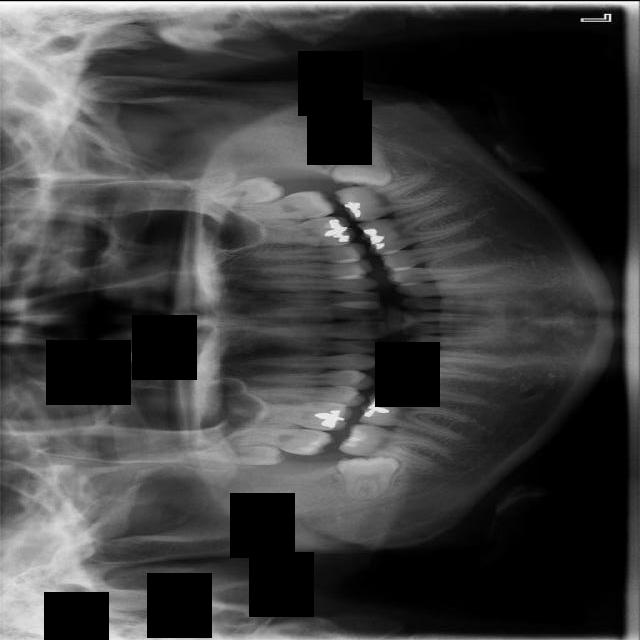3M ESPE Implant: (179, 444, 286, 466)
52: (355, 205, 415, 262), (333, 183, 395, 222), (357, 388, 412, 429), (300, 213, 360, 247), (279, 425, 335, 458), (339, 424, 395, 456), (299, 400, 353, 432)
73: (560, 52, 580, 65)
BioHorizons Implant: (223, 187, 337, 229)
BioLife Implant: (186, 173, 286, 210)
Biomet 3i Implant: (330, 134, 400, 194)
Blue Sky Bio Implant: (332, 166, 452, 227)
Caries: (200, 421, 336, 457)
Implant: (338, 418, 452, 470)
Keystone Dental Implant: (336, 455, 401, 501)
